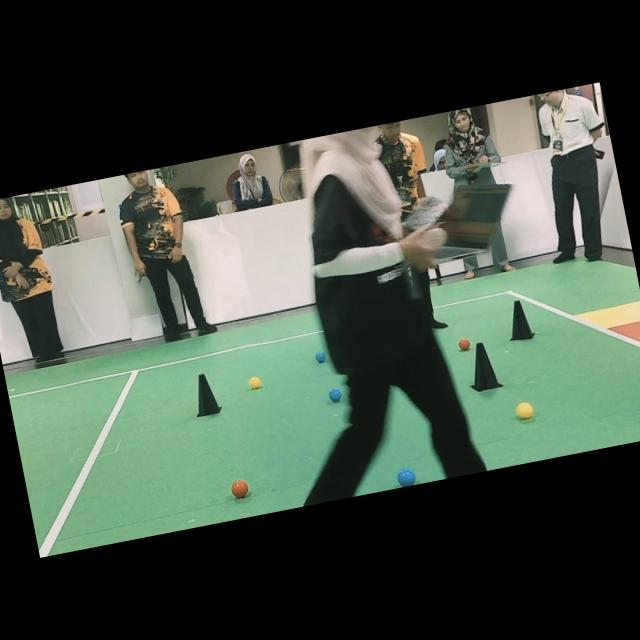ball: (397, 468, 416, 487), (231, 480, 249, 499), (516, 402, 534, 419), (329, 388, 342, 402), (458, 337, 471, 351), (249, 376, 262, 389), (315, 351, 326, 363)
goal: (576, 302, 640, 329), (610, 321, 640, 341)
